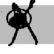not correct: (5, 0, 41, 48)
